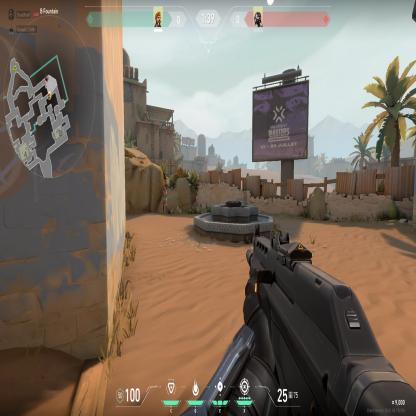enemy: (161, 184, 168, 214)
